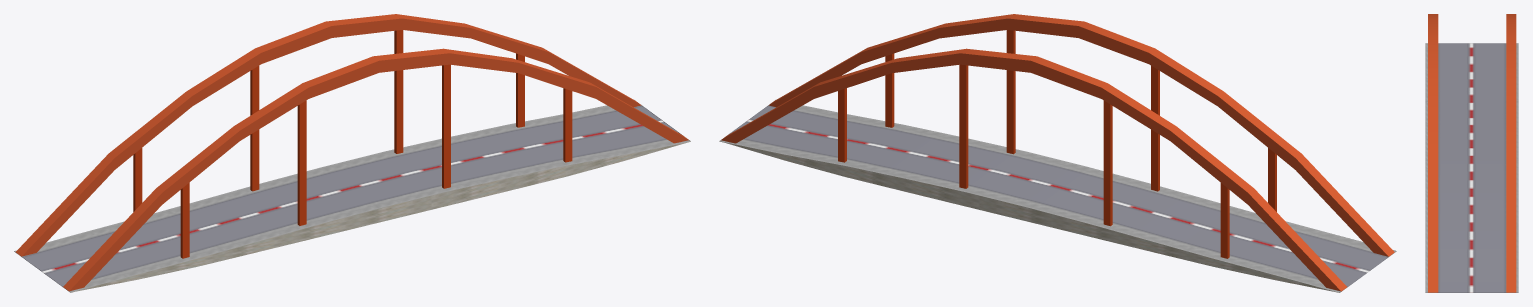
The picture shows the model from 3 angles, left to right: view 1: azimuth 30°, elevation 25°; view 2: azimuth 150°, elevation 25°; view 3: azimuth 270°, elevation 25°; orthographic projection. The views are drawn at different scales.
Visible parts, largest first — view 1: 6142a59c2f30391a8a27bfad; view 2: 6142a59c2f30391a8a27bfad; view 3: 6142a59c2f30391a8a27bfad.
Part boxes in pixels (left/top/right/bottom): 6142a59c2f30391a8a27bfad: left=14, top=14, right=690, bottom=292; 6142a59c2f30391a8a27bfad: left=719, top=14, right=1396, bottom=292; 6142a59c2f30391a8a27bfad: left=1425, top=14, right=1518, bottom=292.
Size of the model in its own units: 124 by 30.57 by 19.63.
Materials: 1 (1 with a texture image).
